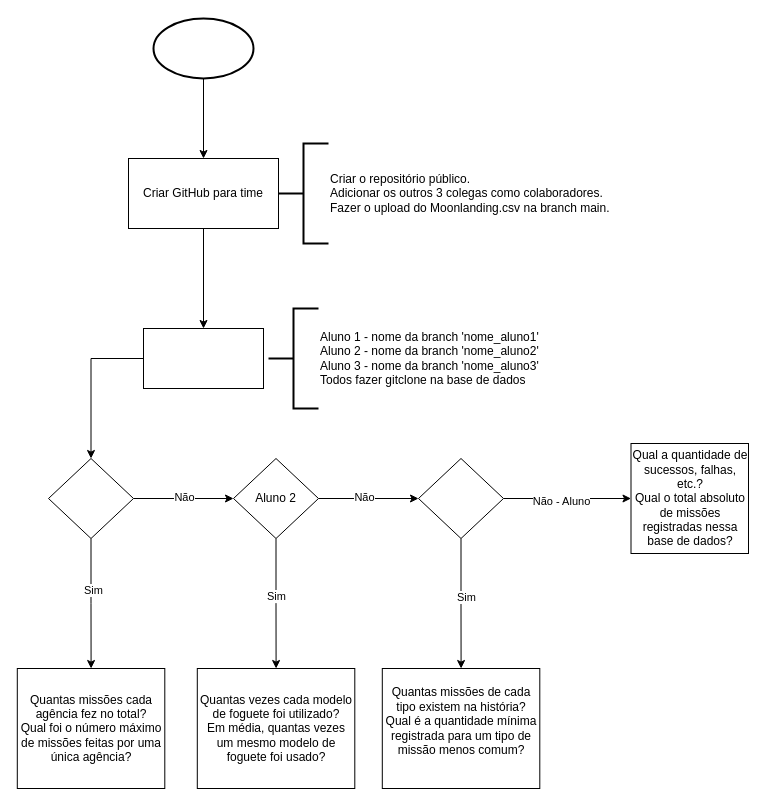
The diagram is 767 pixels wide and 806 high, and some of its shapes have lost their labels. Each missing label, with the box of its shape:
Abrir IDE: (142, 328, 264, 388)
Aluno 1: (48, 458, 134, 538)
Aluno 3: (418, 458, 504, 538)
Início do projeto: (152, 17, 254, 79)
